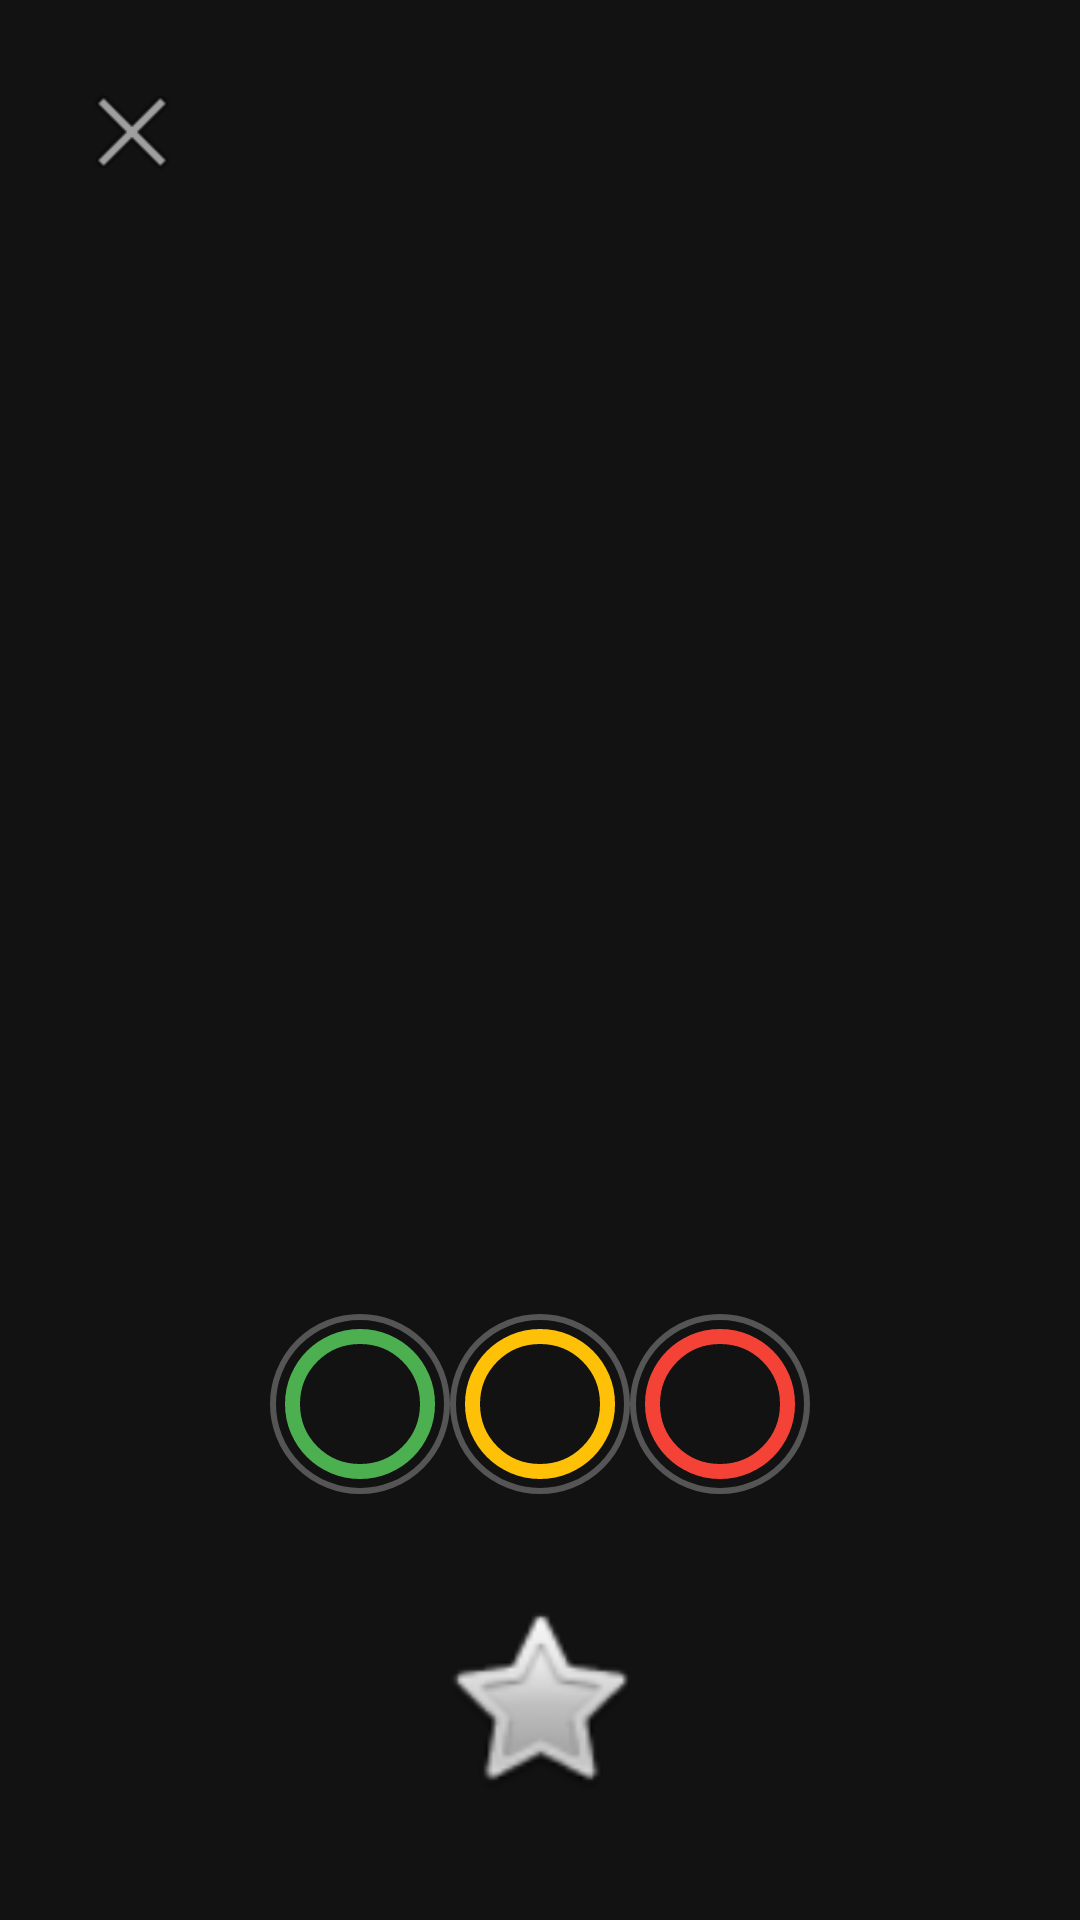

Icons on this 1080*1920 Android screen, each with its box as (x1=x1, y1=y1, x2=x2, y2=y2):
close clear cancel: (x1=98, y1=98, x2=166, y2=166)
star off: (x1=454, y1=1615, x2=628, y2=1780)
